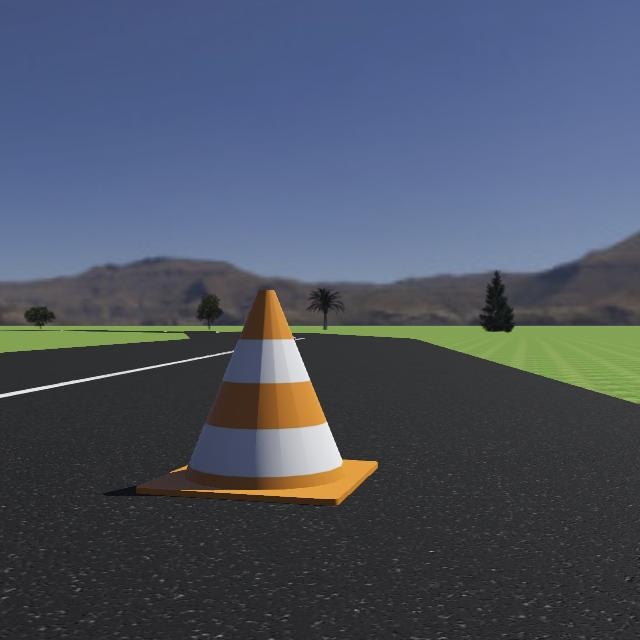cones: (130, 284, 381, 509)
